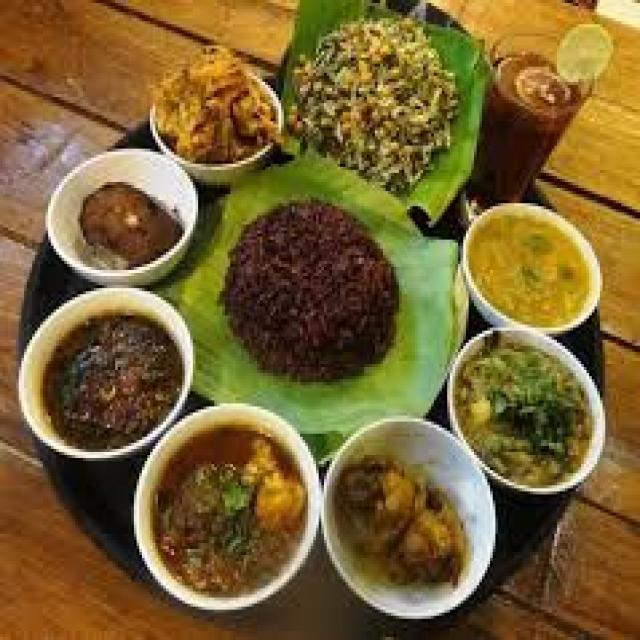dal: (464, 207, 598, 321)
rice: (280, 12, 474, 183)
sweet: (328, 426, 494, 596), (31, 306, 195, 447), (54, 152, 197, 272)
veg-fry: (226, 192, 396, 374)
